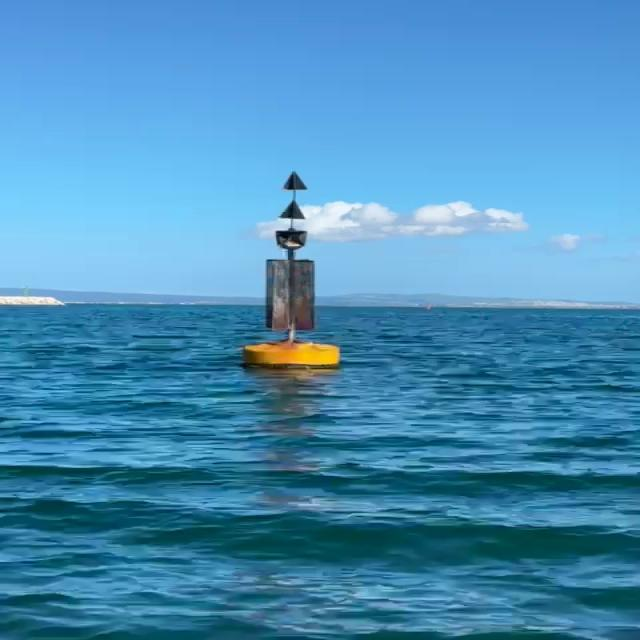marque: (241, 172, 348, 368)
